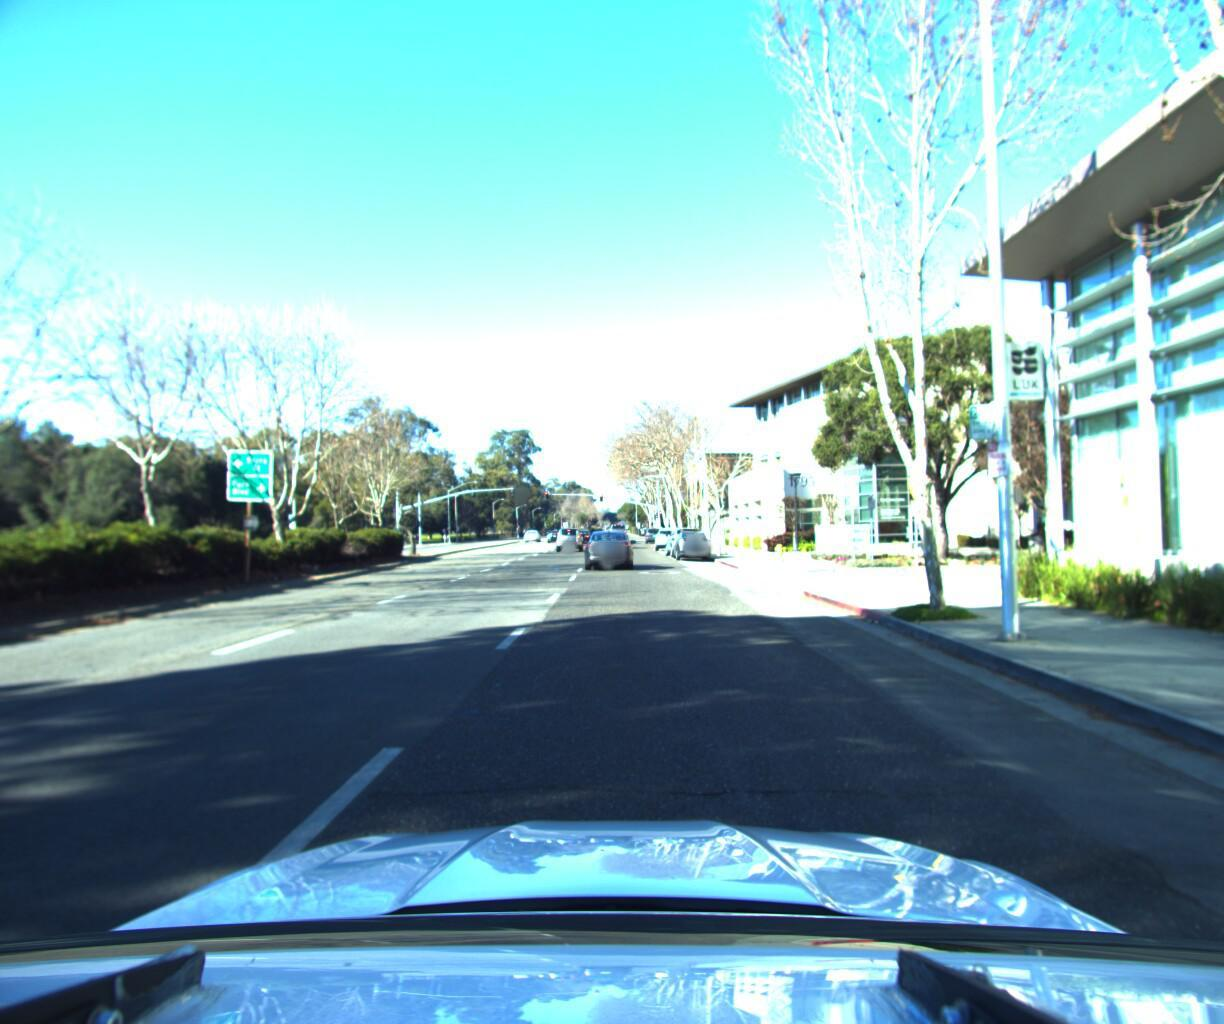car: (1137, 500, 1224, 541), (579, 524, 633, 568), (663, 523, 708, 560), (671, 526, 714, 561), (654, 525, 682, 551), (554, 525, 583, 551), (1213, 507, 1224, 557), (642, 524, 663, 542)
